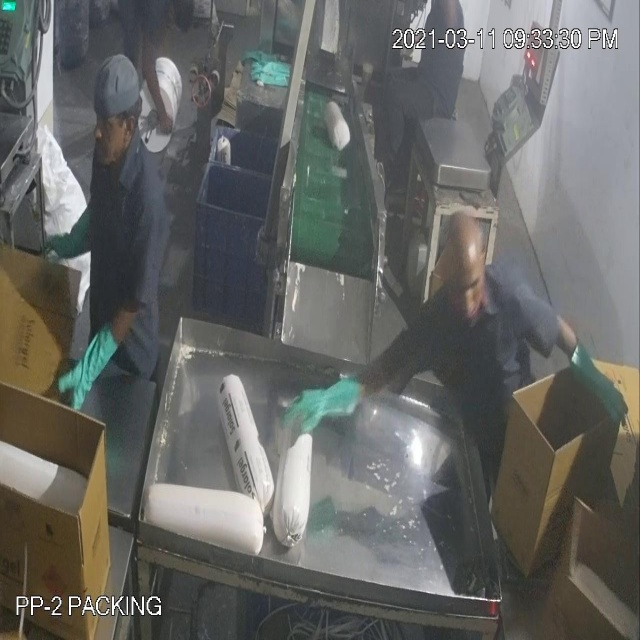Guantes: (53, 327, 129, 430), (570, 336, 633, 440), (293, 368, 368, 440)
